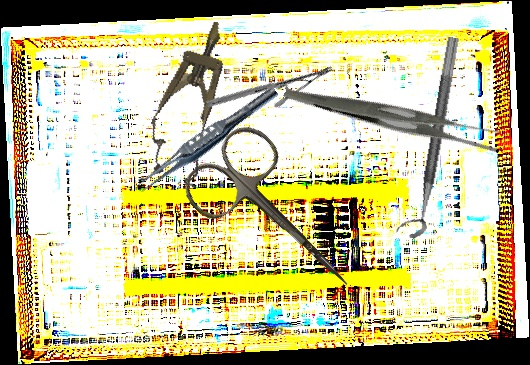Dressing Forceps: (282, 25, 507, 205)
Fixation Ring: (394, 33, 461, 241)
Iris Scissors: (174, 115, 383, 323)
Needle Holder: (204, 21, 335, 152)
Speculum: (136, 12, 247, 189)
Tissue Forceps: (132, 79, 282, 200)
